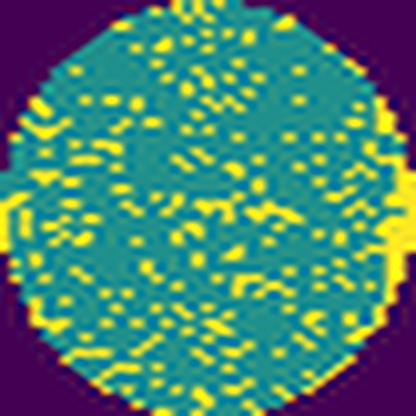Edge-Loc: (348, 144, 415, 352)
